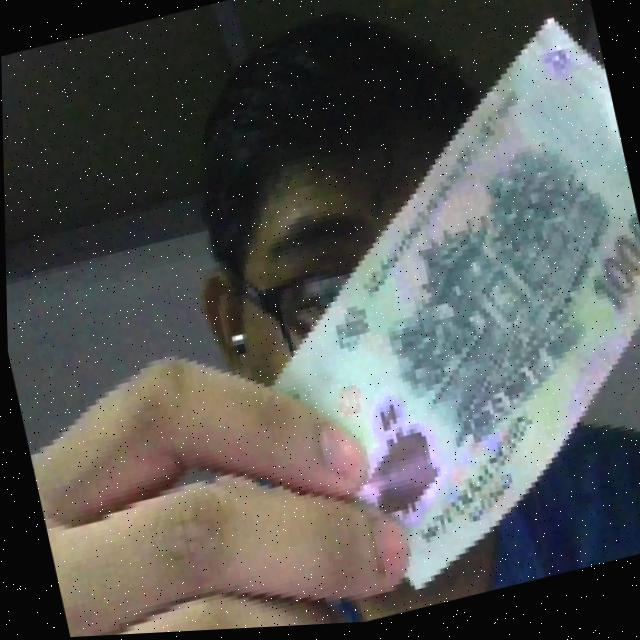100 000 VND: (192, 3, 640, 628)
